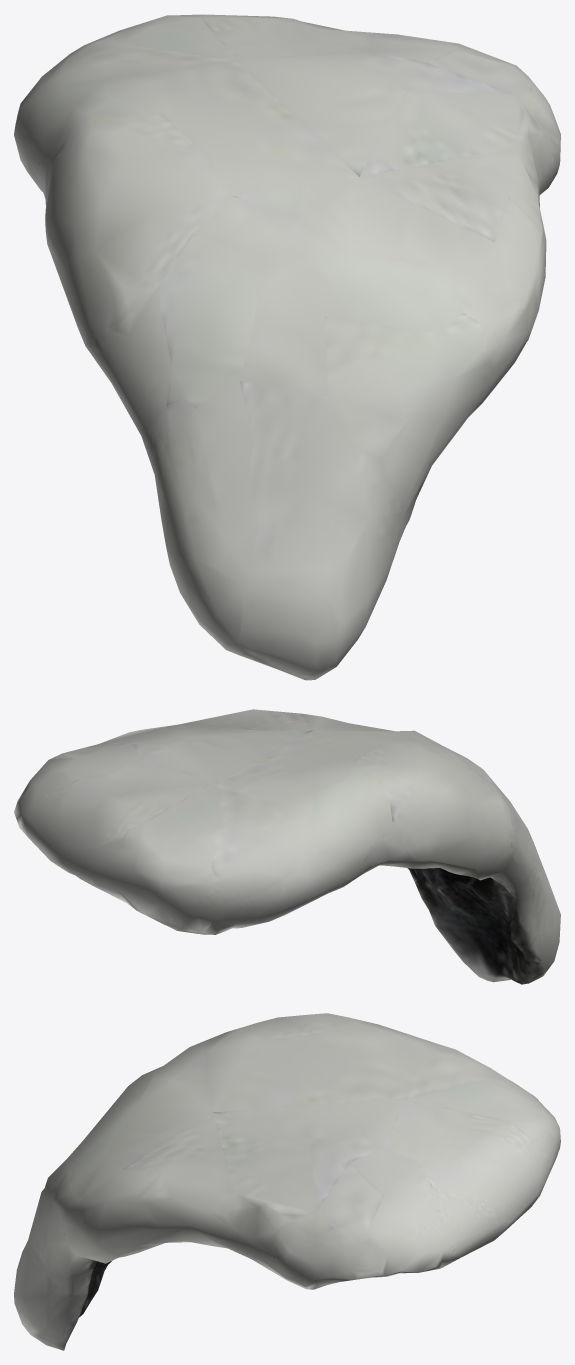
Rendered from hall.glb.
The picture shows the model from 3 angles, top to bottom: view 1: azimuth 30°, elevation 25°; view 2: azimuth 150°, elevation 25°; view 3: azimuth 270°, elevation 25°; orthographic projection. The views are drawn at different scales.
Bounding box in the file's own units: 0.0999 × 0.0736 × 0.1135.
Materials: 1 (1 with a texture image).
